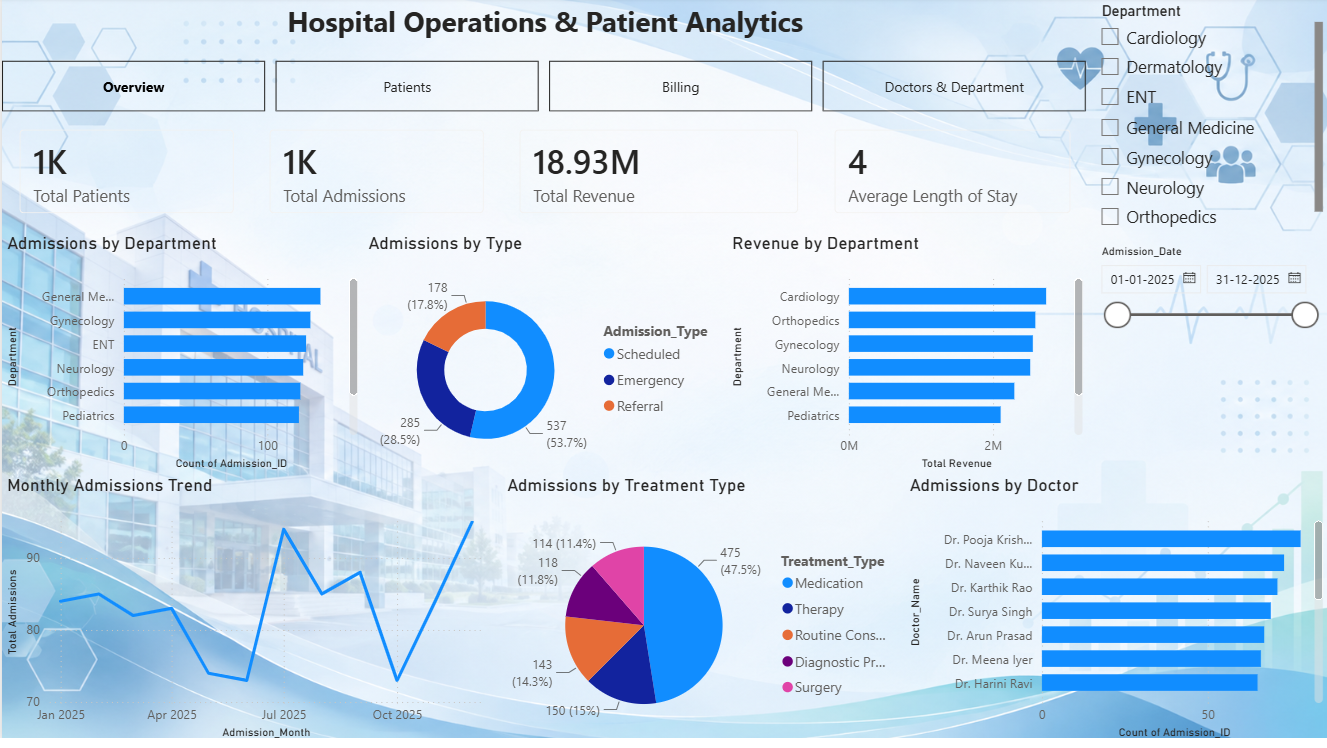

What the dashboard file says about the page in this screenshot:
{"tool":"powerbi","page":{"name":"Overview","canvas":[1280,720],"ordinal":0},"visuals":[{"type":"cardVisual","fields":{"Data":["Admissions.Total Patients"]},"box":[0,111.1,241.5,115.3],"z":0},{"type":"cardVisual","fields":{"Data":["Admissions.Total Admissions"]},"box":[241.5,111.1,241.5,115.3],"z":1000},{"type":"cardVisual","fields":{"Data":["Admissions.Total Revenue"]},"box":[483,111.1,303.3,115.3],"z":2000},{"type":"cardVisual","fields":{"Data":["Admissions.Average Length of Stay"]},"box":[786.3,111.1,262.1,115.3],"z":3000},{"type":"textbox","box":[0,0,1048.4,61.7],"z":4000},{"type":"pageNavigator","box":[0,61.7,1048.4,49.4],"z":5000},{"type":"clusteredBarChart","title":"Admissions by Department","fields":{"Category":["Admissions.Department"],"Y":["CountNonNull(Admissions.Admission_ID)"]},"box":[0,226.4,348.5,234.6],"z":6000},{"type":"donutChart","title":"Admissions by Type","fields":{"Category":["Admissions.Admission_Type"],"Y":["CountNonNull(Admissions.Admission_ID)"]},"box":[348.5,226.4,348.5,234.6],"z":7000},{"type":"clusteredBarChart","title":"Revenue by Department","fields":{"Category":["Admissions.Department"],"Y":["Admissions.Total Revenue"]},"box":[699.8,226.4,348.5,234.6],"z":8000},{"type":"lineChart","title":"Monthly Admissions Trend","fields":{"Category":["Admissions.Admission_Month"],"Y":["Admissions.Total Admissions"]},"box":[0,461.1,483,259.3],"z":9000},{"type":"pieChart","title":"Admissions by Treatment Type","fields":{"Category":["Admissions.Treatment_Type"],"Y":["CountNonNull(Admissions.Admission_ID)"]},"box":[483,461.1,388.3,259.3],"z":10000},{"type":"clusteredBarChart","title":"Admissions by Doctor","fields":{"Category":["Doctors.Doctor_Name"],"Y":["CountNonNull(Admissions.Admission_ID)"]},"box":[871.4,461.1,408.9,259.3],"z":11000},{"type":"slicer","fields":{"Values":["Admissions.Department"]},"box":[1048.4,0,231,235],"z":12000},{"type":"slicer","fields":{"Values":["Admissions.Admission_Date"]},"box":[1048.4,234.6,230.5,109.8],"z":13000}]}

Visuals, with their boxes in screenshot pixels (x1, y1, x2, y2), scaled from the page's 1280x720 canvas onto the 1327x748 screenshot:
cardVisual - Admissions.Total Patients: l=0, t=115, r=250, b=235
cardVisual - Admissions.Total Admissions: l=250, t=115, r=501, b=235
cardVisual - Admissions.Total Revenue: l=501, t=115, r=815, b=235
cardVisual - Admissions.Average Length of Stay: l=815, t=115, r=1087, b=235
textbox: l=0, t=0, r=1087, b=64
pageNavigator: l=0, t=64, r=1087, b=115
"Admissions by Department" clusteredBarChart: l=0, t=235, r=361, b=479
"Admissions by Type" donutChart: l=361, t=235, r=723, b=479
"Revenue by Department" clusteredBarChart: l=725, t=235, r=1087, b=479
"Monthly Admissions Trend" lineChart: l=0, t=479, r=501, b=747
"Admissions by Treatment Type" pieChart: l=501, t=479, r=903, b=747
"Admissions by Doctor" clusteredBarChart: l=903, t=479, r=1326, b=747
slicer - Admissions.Department: l=1087, t=0, r=1326, b=244
slicer - Admissions.Admission_Date: l=1087, t=244, r=1326, b=358
